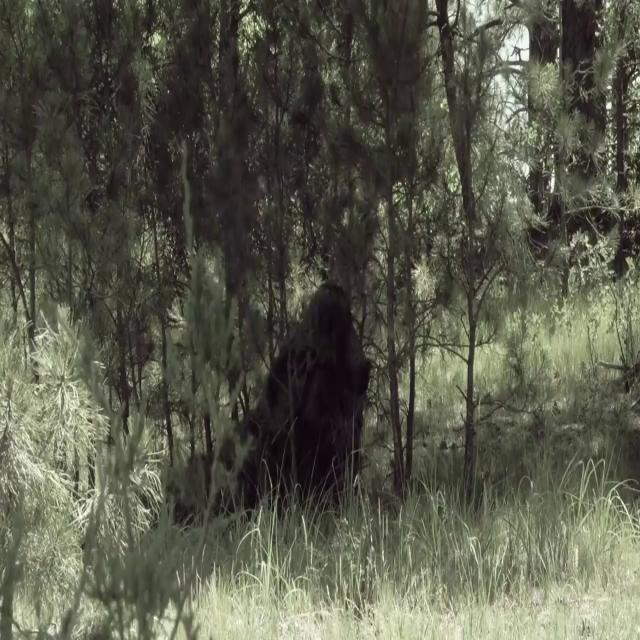Camouflage: (231, 284, 377, 497)
